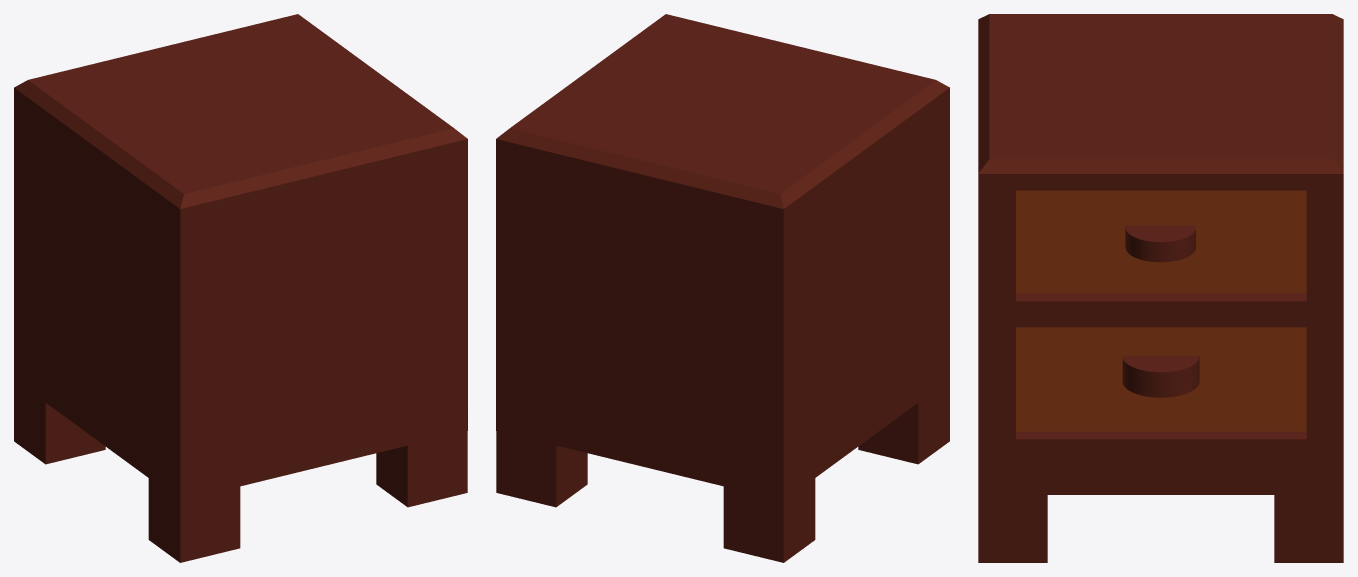
The model's file is nightstand.fbx.
3 renders of one model, left to right at view 1: azimuth 30°, elevation 25°; view 2: azimuth 150°, elevation 25°; view 3: azimuth 270°, elevation 25°, orthographic. The views are drawn at different scales.
Parts seen in each view (by area): view 1: Cube; view 2: Cube; view 3: Cube.
Part boxes in pixels (left/top/right/bottom): Cube: left=14, top=14, right=467, bottom=562; Cube: left=496, top=14, right=949, bottom=562; Cube: left=978, top=14, right=1343, bottom=562.
Size of the model in its own units: 625 by 713 by 592.
